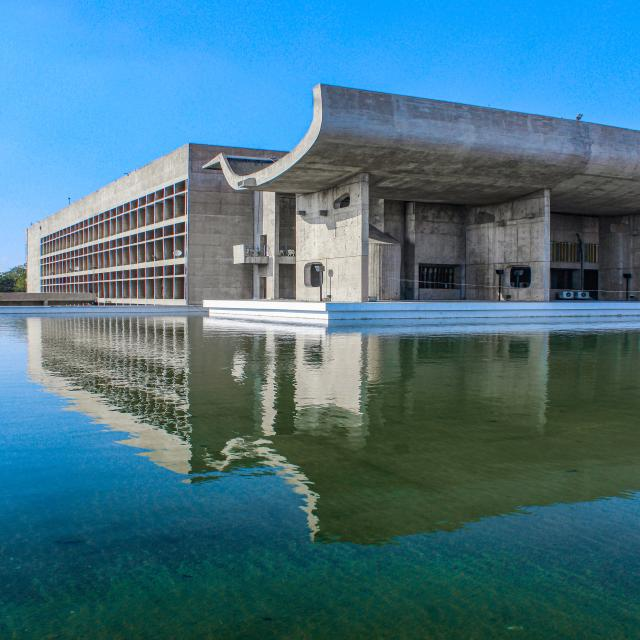Concrete: (13, 72, 640, 332)
